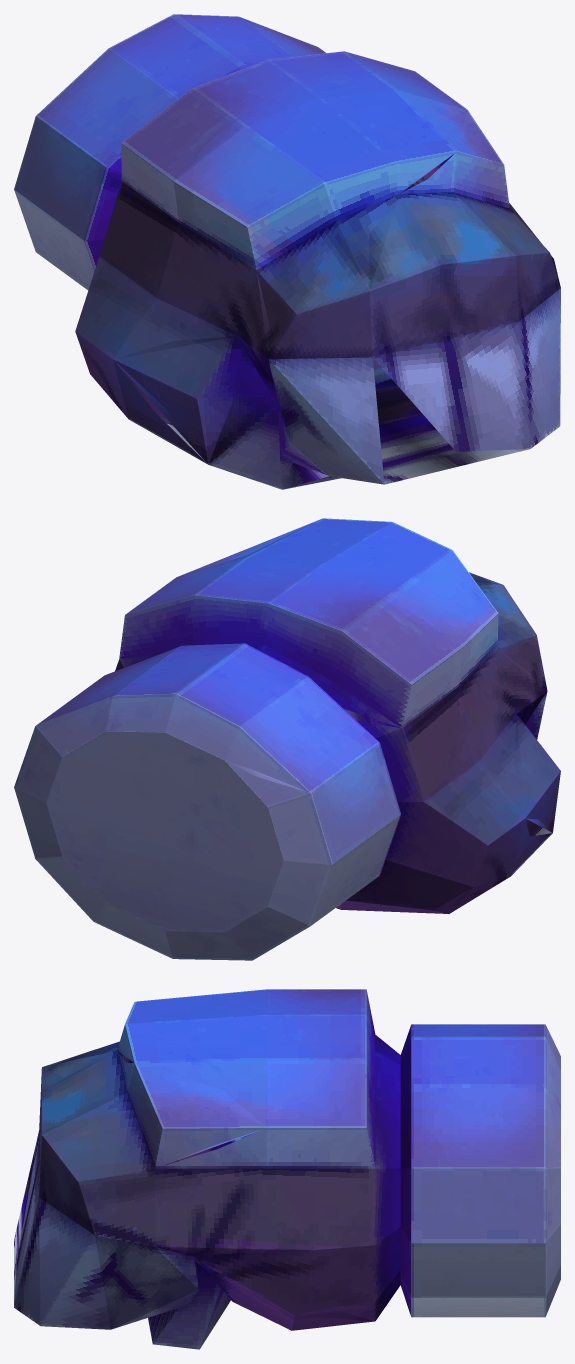
File: item_fightergloves_officer.glb
3 views of the same model, one above another, from view 1: azimuth 30°, elevation 25°; view 2: azimuth 150°, elevation 25°; view 3: azimuth 270°, elevation 25° (orthographic). The views are drawn at different scales.
Parts seen in each view (by area): view 1: FighterGlove; view 2: FighterGlove; view 3: FighterGlove.
Boxes of the visible parts, left/top/right/bottom form: FighterGlove: left=14, top=14, right=560, bottom=489; FighterGlove: left=14, top=518, right=560, bottom=960; FighterGlove: left=14, top=989, right=560, bottom=1349.
Bounding box in the file's own units: 0.2606 × 0.2156 × 0.332.
1 material, 1 textured.
